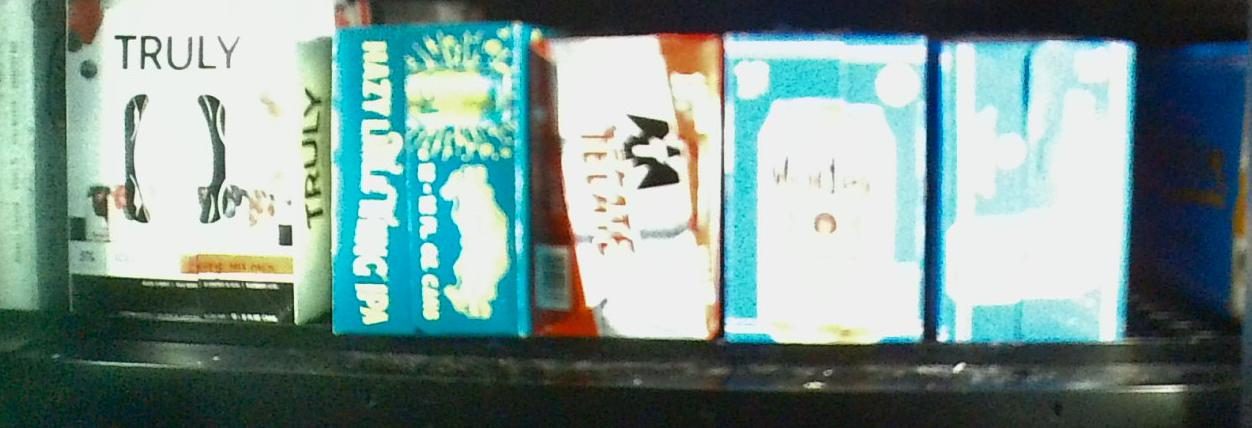bottle: (67, 1, 326, 327), (329, 23, 534, 339), (725, 27, 926, 345), (935, 30, 1128, 347), (532, 33, 722, 341)
